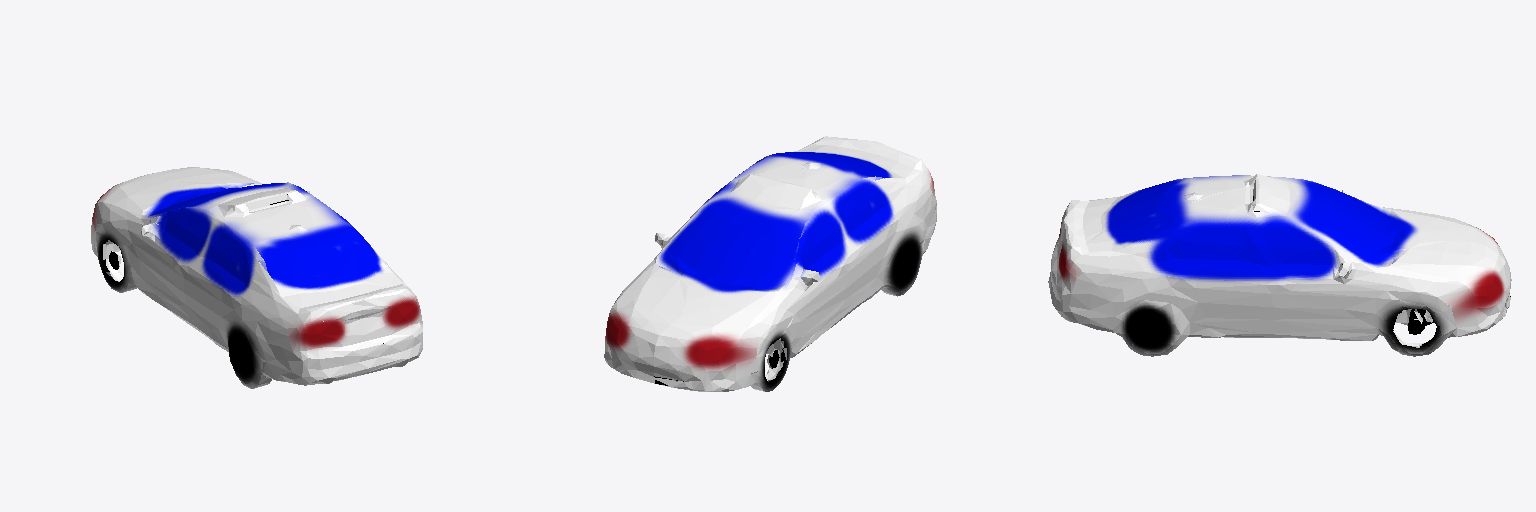
3 renders of one model, left to right at view 1: azimuth 30°, elevation 25°; view 2: azimuth 150°, elevation 25°; view 3: azimuth 270°, elevation 25°, orthographic.
Parts seen in each view (by area): view 1: model_normalized.004; view 2: model_normalized.004; view 3: model_normalized.004.
Part boxes in pixels (x1,y1,x2,y2): model_normalized.004: (91, 167, 422, 388); model_normalized.004: (604, 136, 936, 391); model_normalized.004: (1048, 174, 1511, 356).
Bounding box in the file's own units: 0.3635 × 0.2798 × 0.8749.
Materials: 1 (1 with a texture image).